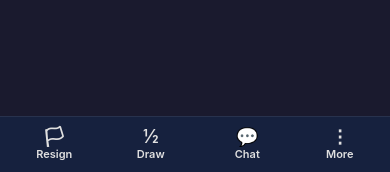
it: KS-4290 / ADR-134 §2: GameActionBar › status="active" › меню «Ещё» открывается по клику и содержит «Mute», «Lobby»
The width and height of the screenshot is (390, 172).
Click the button with test id "game-action-bar-more".
click(340, 144)  # box [298, 122, 382, 167]
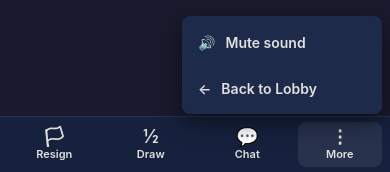
Expected: the menu with test id "game-action-bar-more-menu" is shown, [182, 16, 382, 114]
Expected: the menu item with test id "game-action-bar-mute" is shown, [186, 20, 378, 64]
Expected: the menu item with test id "game-action-bar-lobby" is shown, [186, 66, 378, 110]
